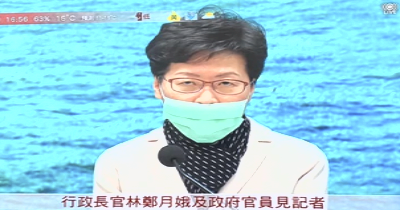mask_weared_incorrect: (161, 69, 251, 144)
